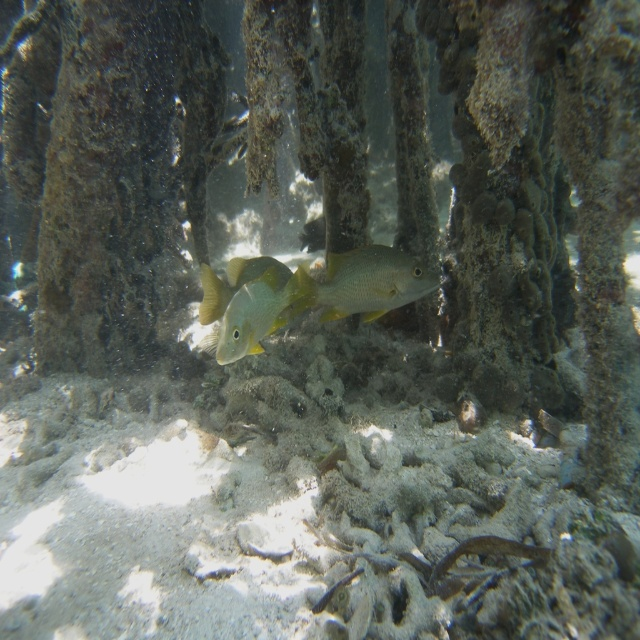Fish: (278, 247, 443, 324), (200, 267, 316, 372)
